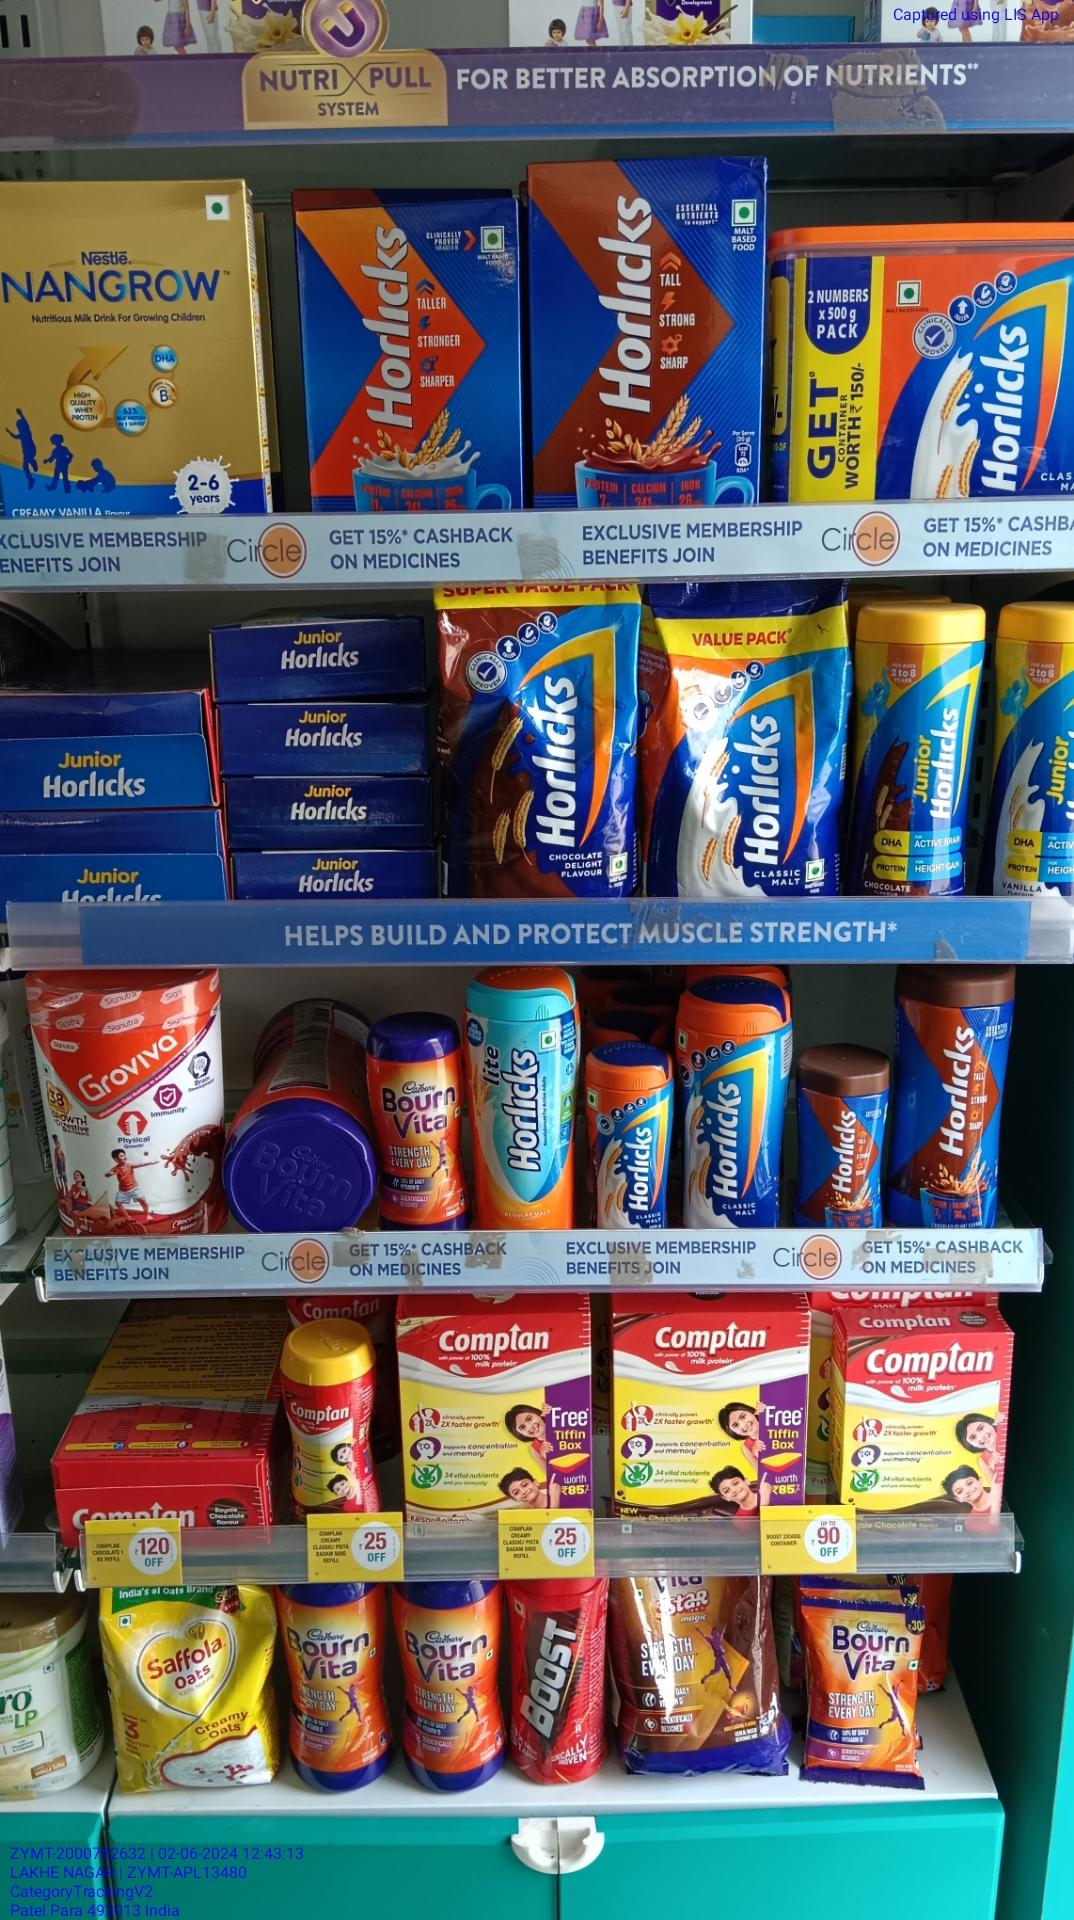HORLICKS_LITE_REGULAR_MALT_500_GM_JAR: (470, 965, 577, 1236)
HORLICK_CLASSIC_MALT_200_G_JAR: (595, 1034, 672, 1224)
HORLICK_CLASSIC_MALT_500_G_JAR: (686, 965, 792, 1224)
HORLICK_CLASSIC_MALT_750_G_POUCH: (657, 576, 839, 911)
HORLICK_MALT_1_KG_CONTAINER: (774, 228, 1074, 502)
